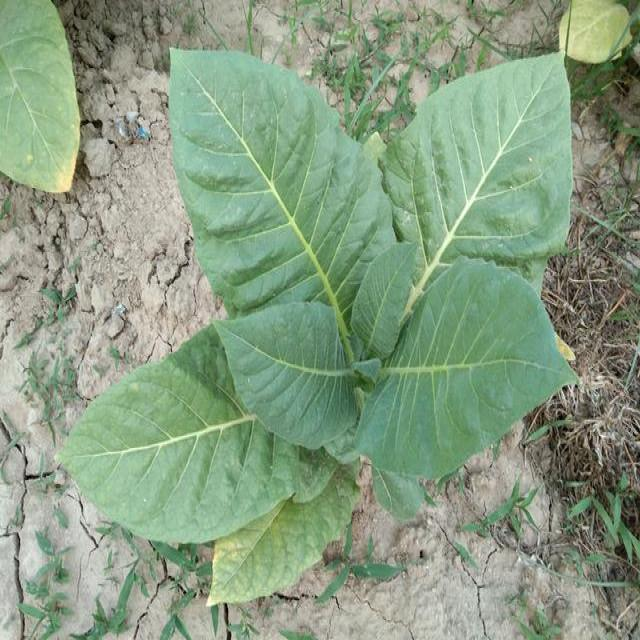crop: (70, 42, 568, 596), (0, 0, 80, 195), (555, 0, 630, 59)
